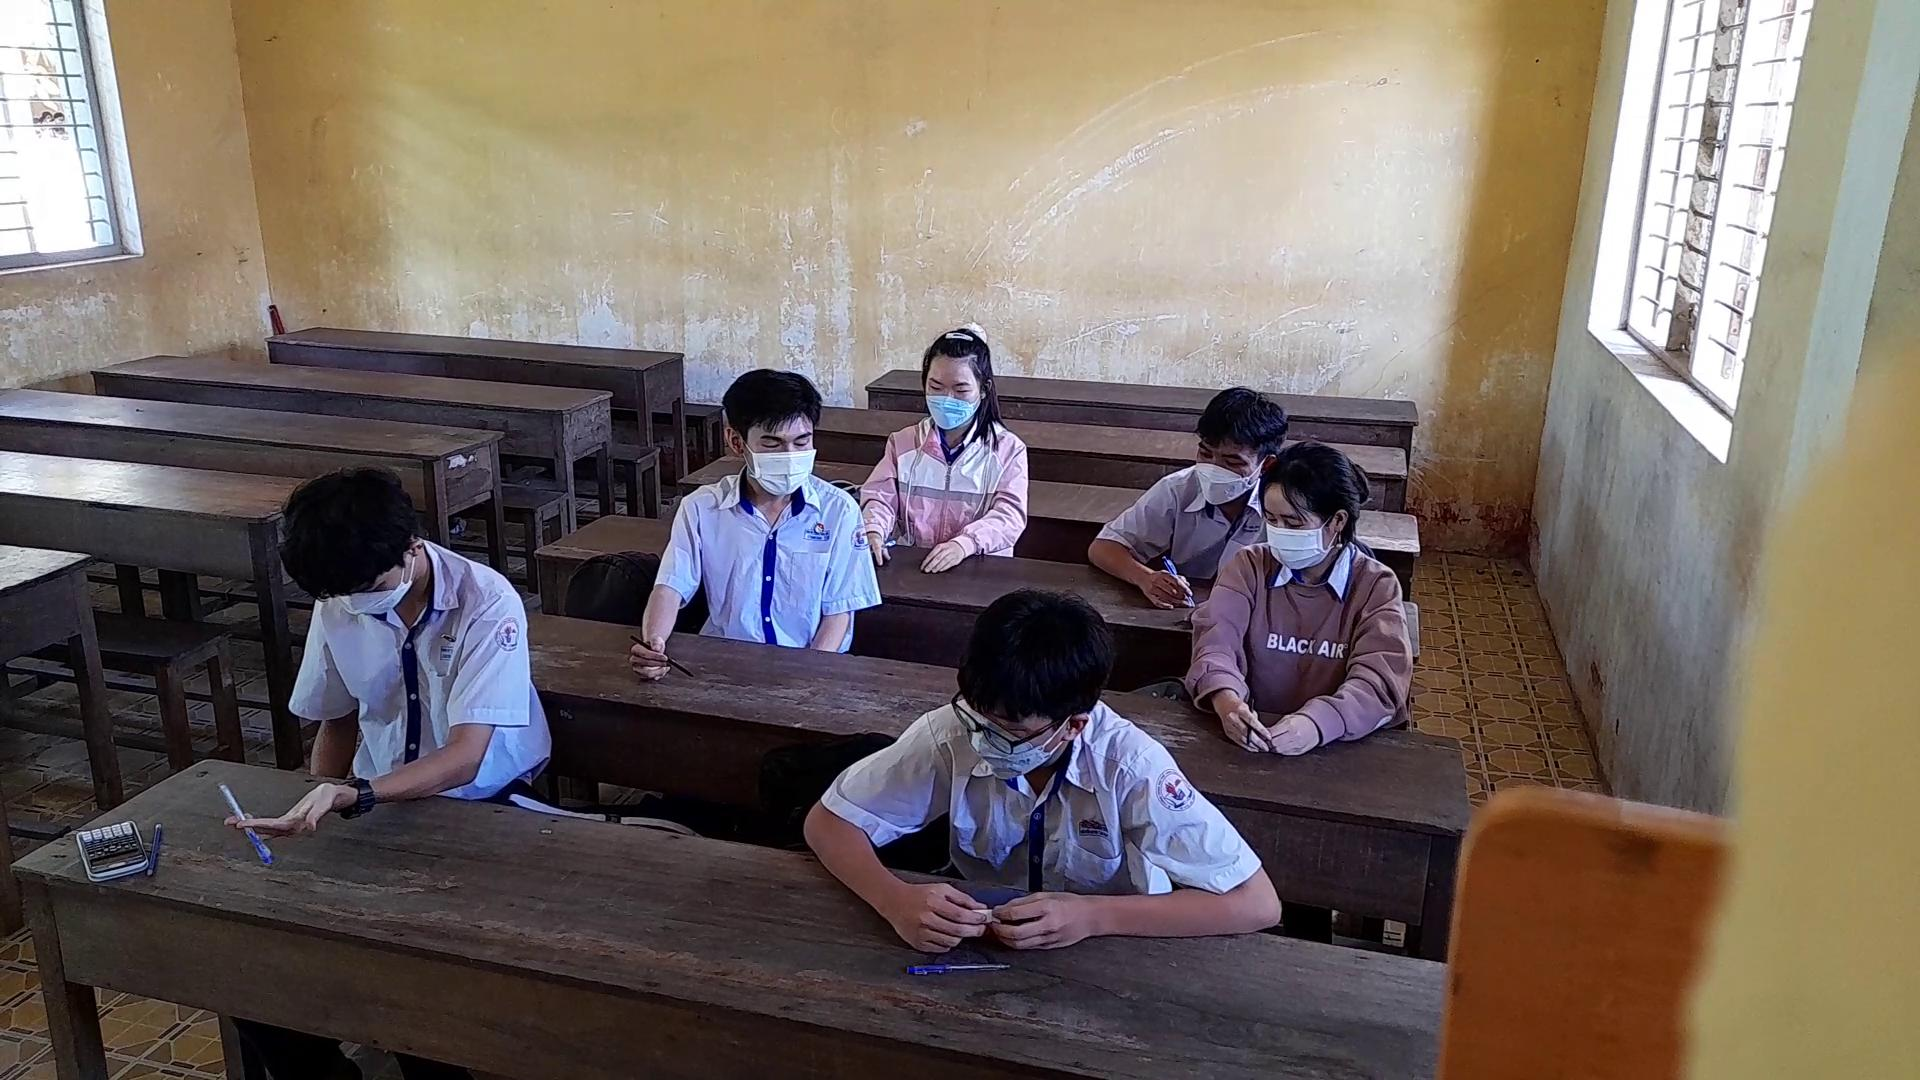Bend Over The Desk: (253, 462, 443, 626)
Hand Under Table: (284, 616, 364, 781), (795, 495, 876, 659)
Look Around: (949, 578, 1125, 786), (1237, 473, 1393, 603)
Normal: (902, 327, 1021, 465)
